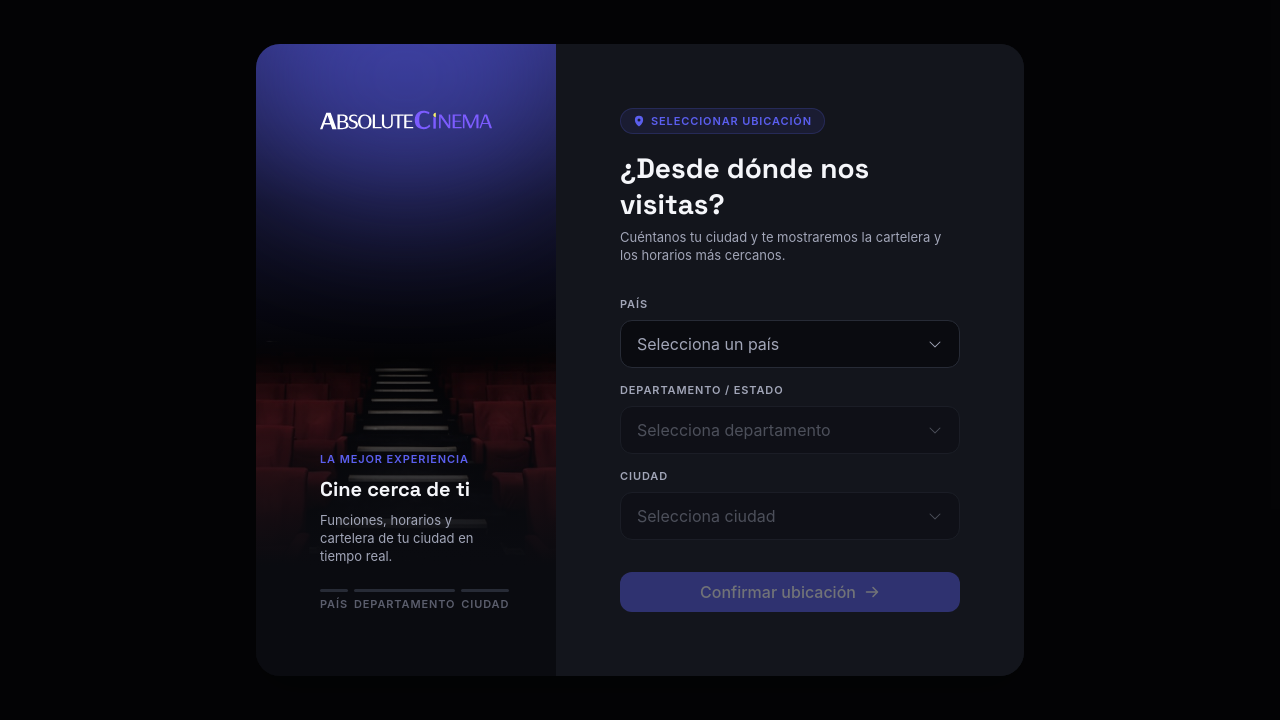
Test: LocationWizardModal › hides countries and departments that are not active
The image size is (1280, 720).
Click the dropdown labelled "país": (708,344) top-left (620, 320), bottom-right (960, 368)
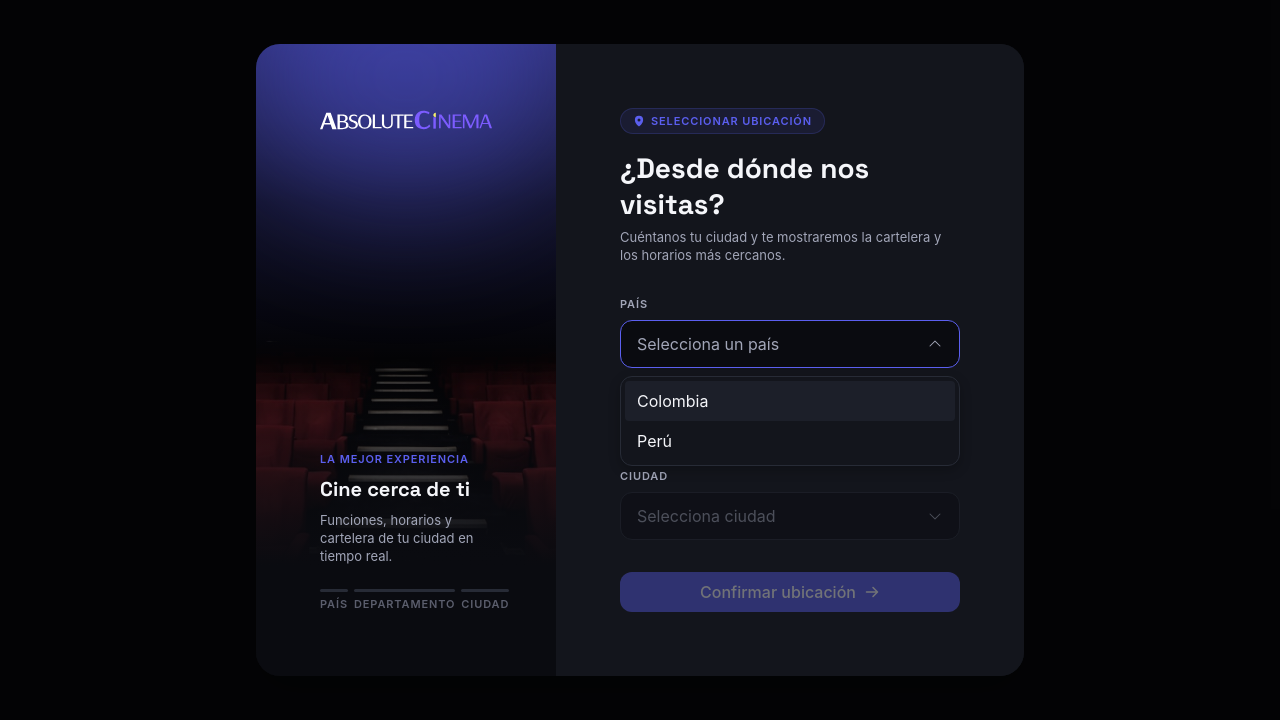
Result: the option "Colombia" is shown
Click the option "Colombia": (673,401) top-left (625, 381), bottom-right (955, 421)
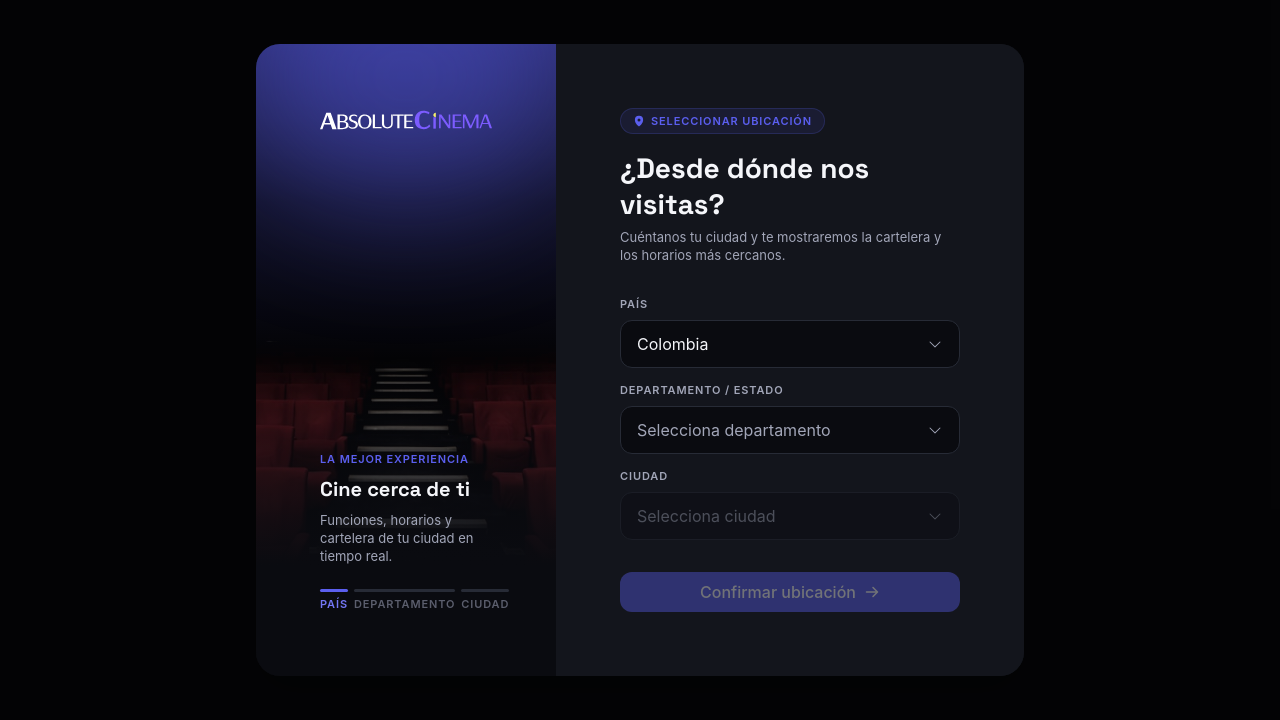
Result: the dropdown named "Departamento / Estado" is enabled
Click the dropdown named "Departamento / Estado": (790,430) top-left (620, 406), bottom-right (960, 454)
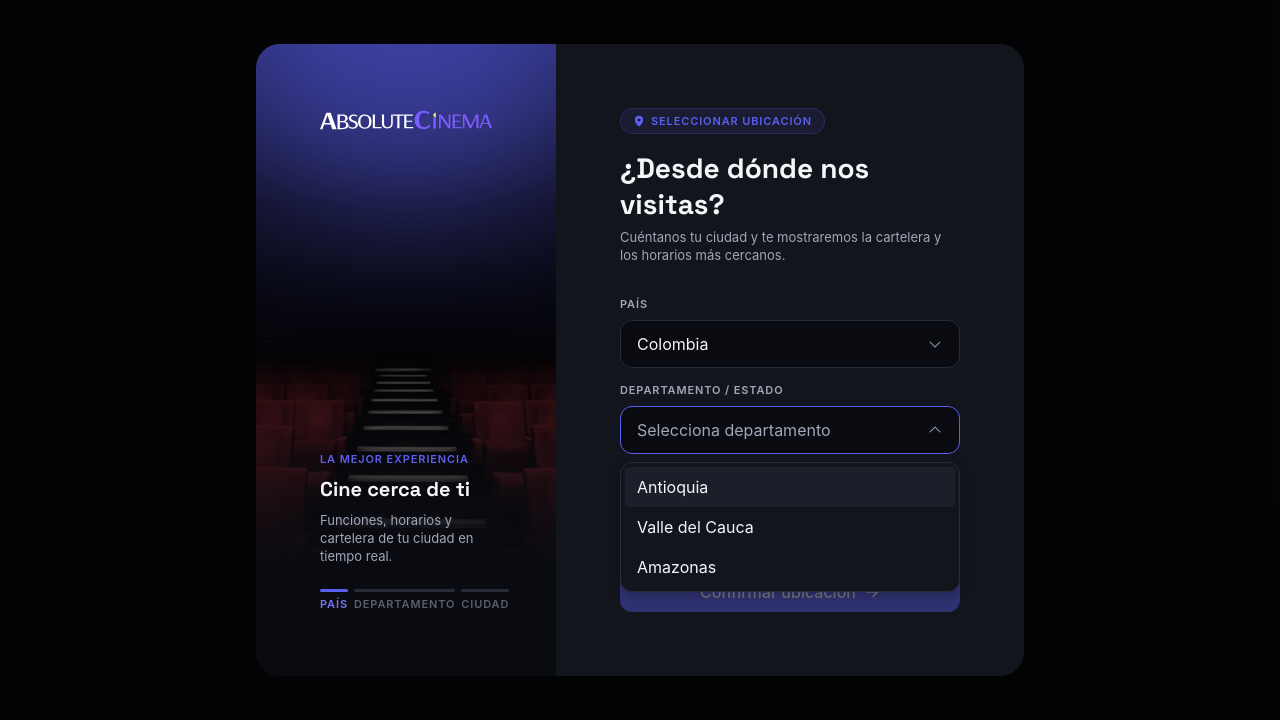
Result: the option "Antioquia" is shown at top-left (625, 467), bottom-right (955, 507)
